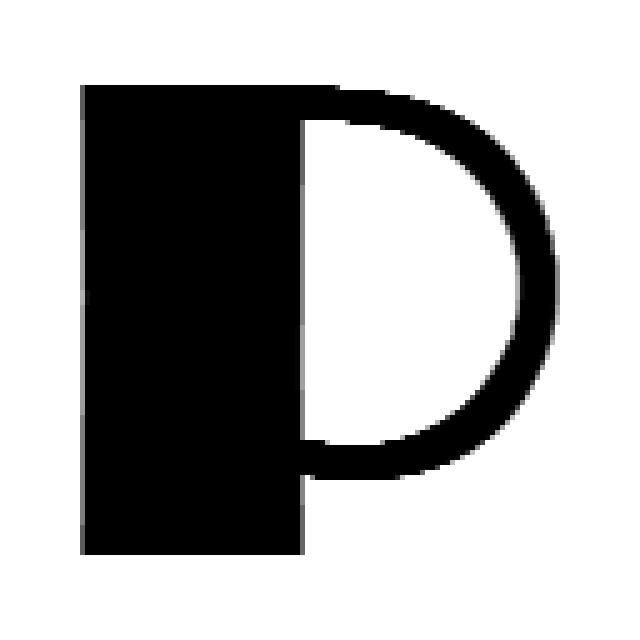P: (80, 85, 560, 565)
